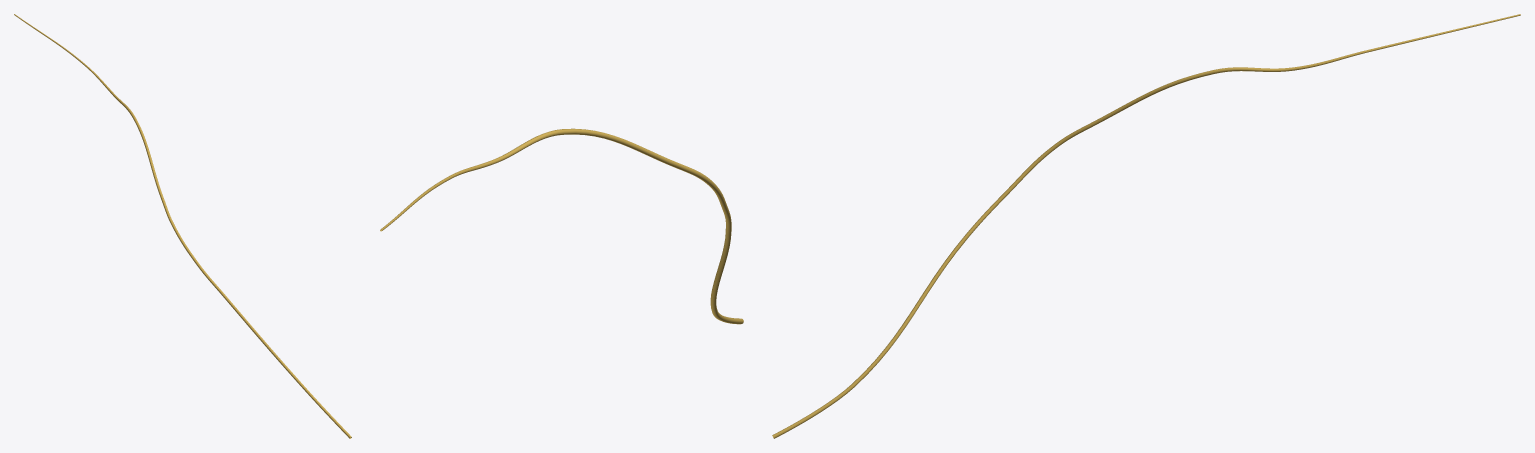
3 renders of one model, left to right at view 1: azimuth 30°, elevation 25°; view 2: azimuth 150°, elevation 25°; view 3: azimuth 270°, elevation 25°, orthographic. The views are drawn at different scales.
Visible parts, largest first — view 1: 右侧肩胛背神经; view 2: 右侧肩胛背神经; view 3: 右侧肩胛背神经.
Part boxes in pixels (x1,y1,x2,y2): 右侧肩胛背神经: [14, 14, 351, 438]; 右侧肩胛背神经: [380, 128, 743, 324]; 右侧肩胛背神经: [772, 14, 1520, 438].
Size of the model in its own units: 0.0489 by 0.1435 by 0.2636.
